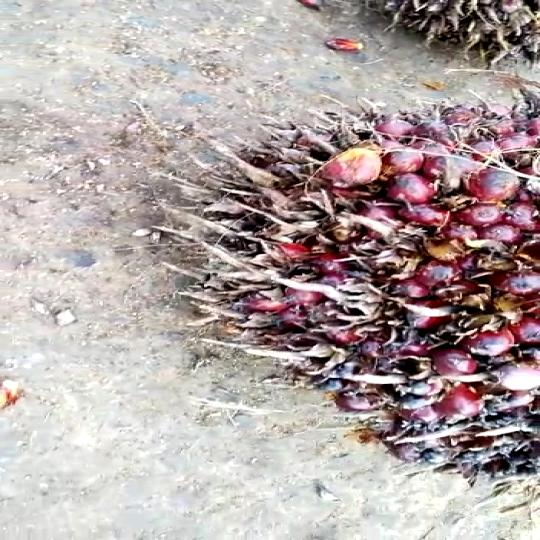masak: (170, 97, 540, 514)
